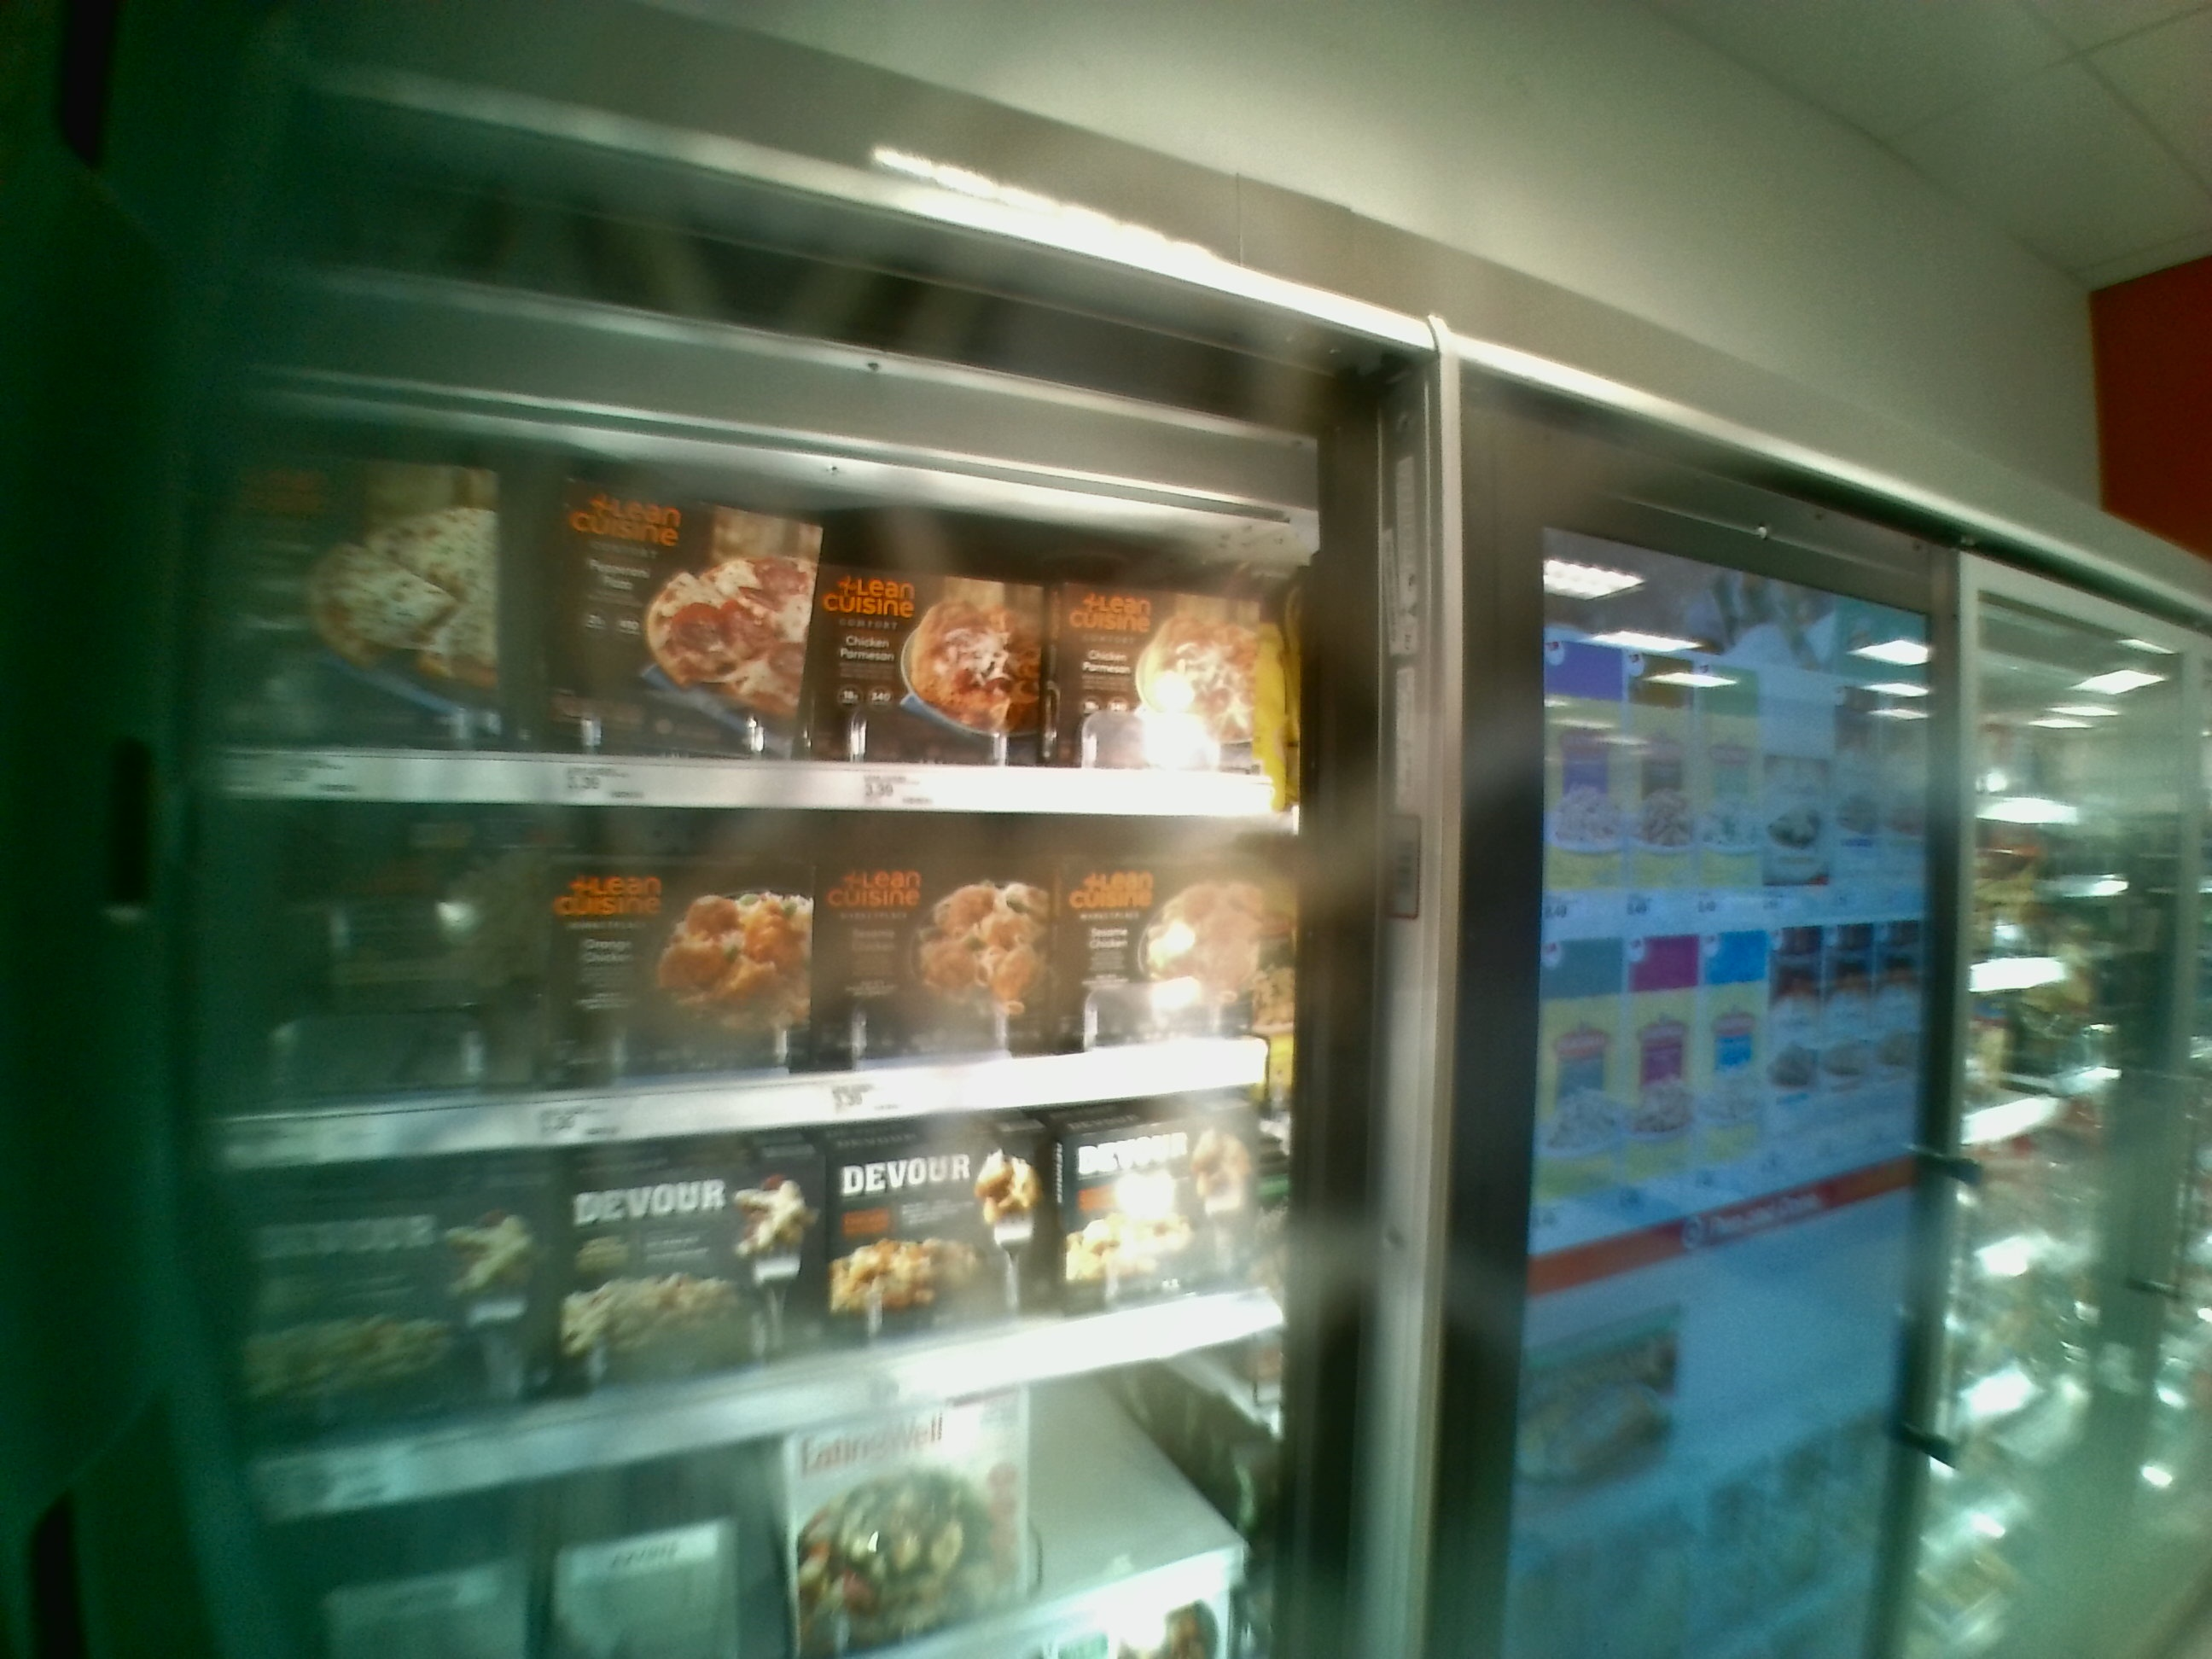Shelf: (221, 420, 1285, 828), (193, 802, 1327, 1161)
